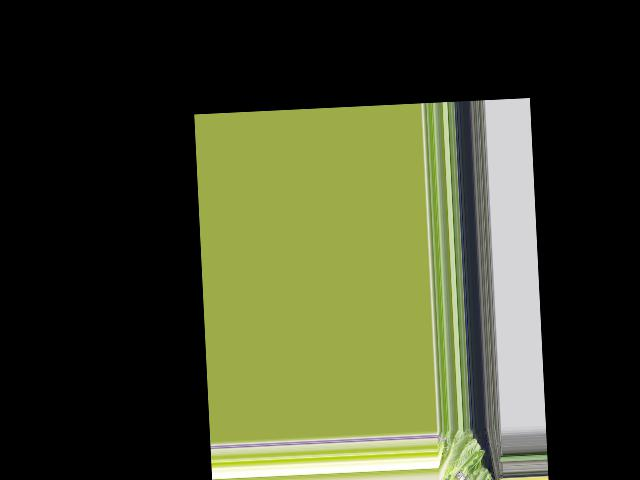lettuce: (439, 429, 479, 480)
